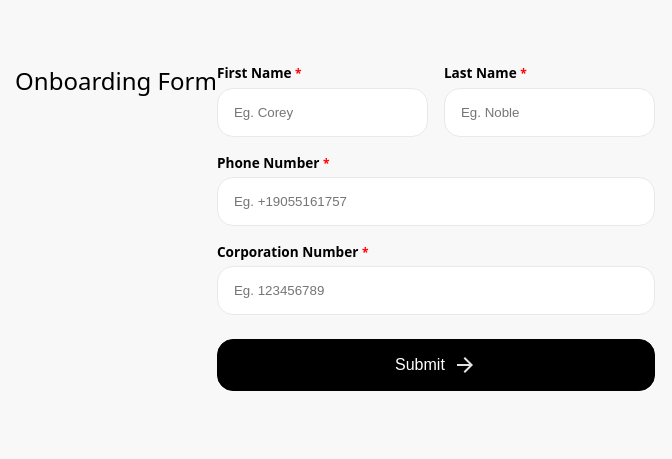
Test case: OnboardingForm › shows errors when fields are empty on submit
This screenshot has width=672, height=459.
Click the button "Submit" at (436, 365), box top-left (217, 339), bottom-right (655, 391)
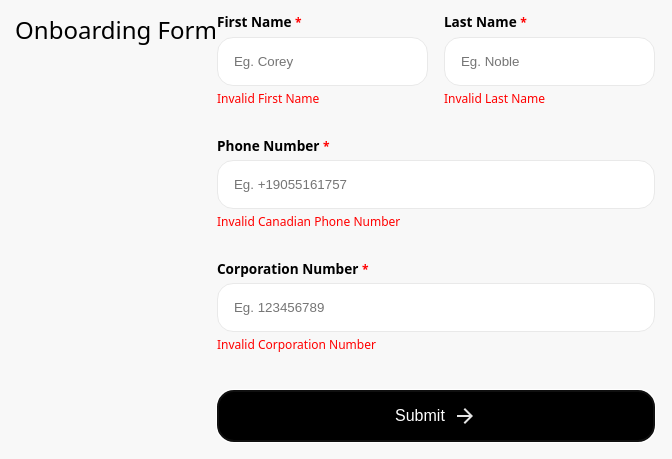
Now the text "Invalid First Name" is shown, box top-left (217, 90), bottom-right (319, 106)
Now the text "Invalid Last Name" is shown, box top-left (444, 90), bottom-right (545, 106)
Now the text "Invalid Canadian Phone Number" is shown, box top-left (217, 213), bottom-right (400, 230)
